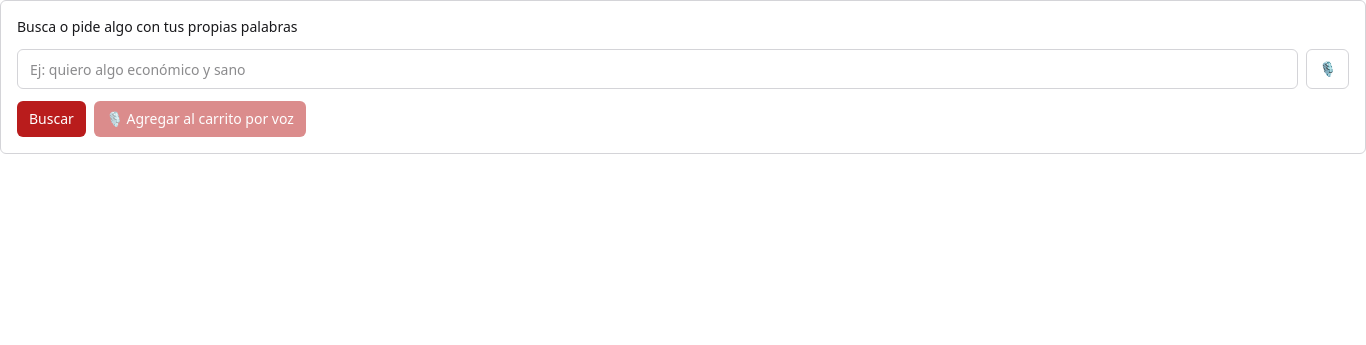
Test case: BusquedaPorVoz · texto (HU-06) › cada resultado tiene un botón "Agregar" manual, de un clic (FR-028)
Type "quiero pizza" into the field labelled "Busca o pide algo con tus propias palabras" at (658, 69), box [17, 49, 1298, 89]
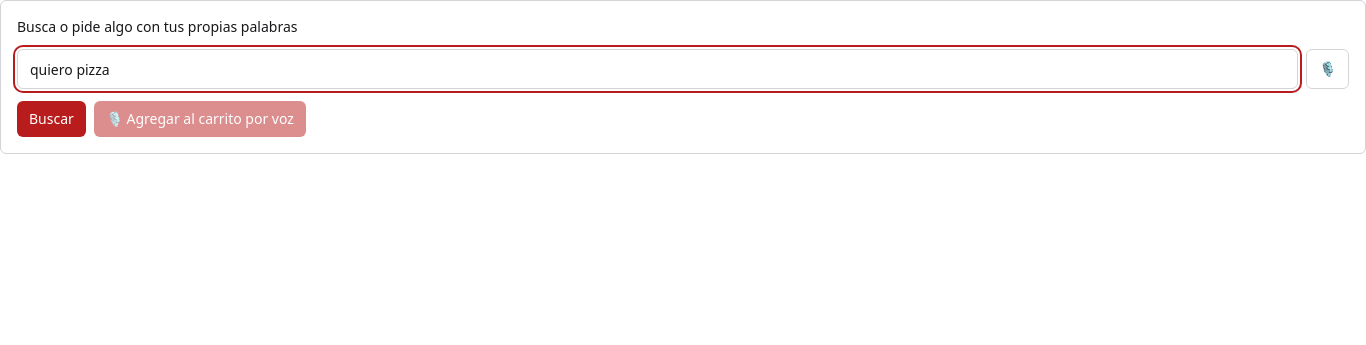
Click the button "Buscar" at (51, 119), box [17, 101, 86, 137]
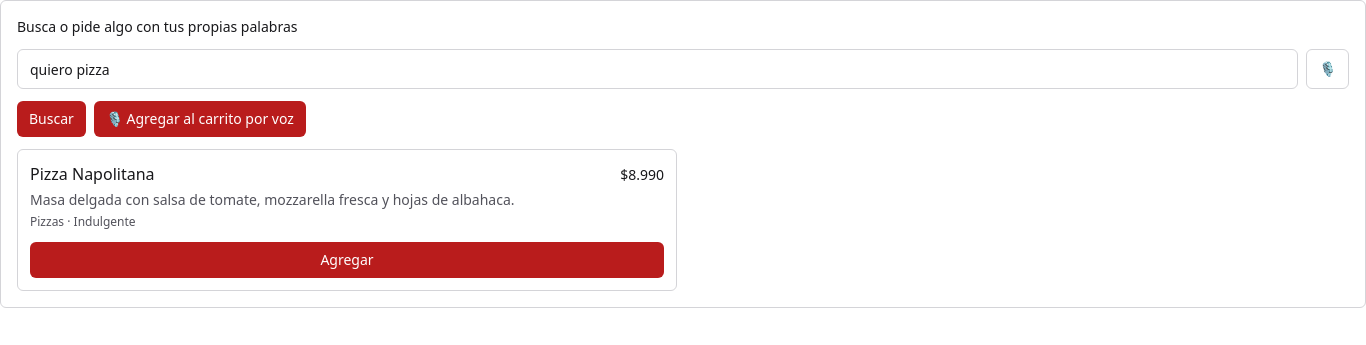
Expected: the text "Pizza Napolitana" is shown, [30, 162, 154, 186]
Click the button "Agregar" at (347, 260), box [30, 242, 664, 278]
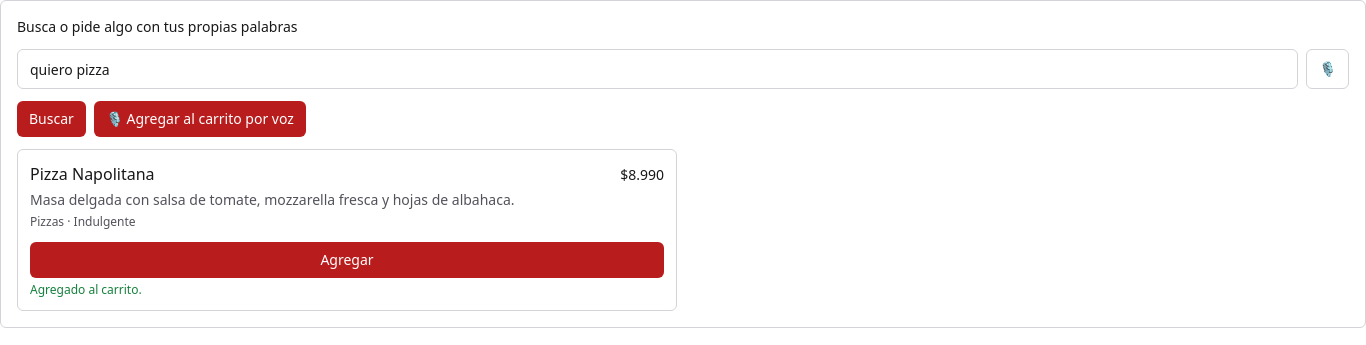
Expected: the text "Agregado al carrito." is shown, [30, 281, 142, 298]
